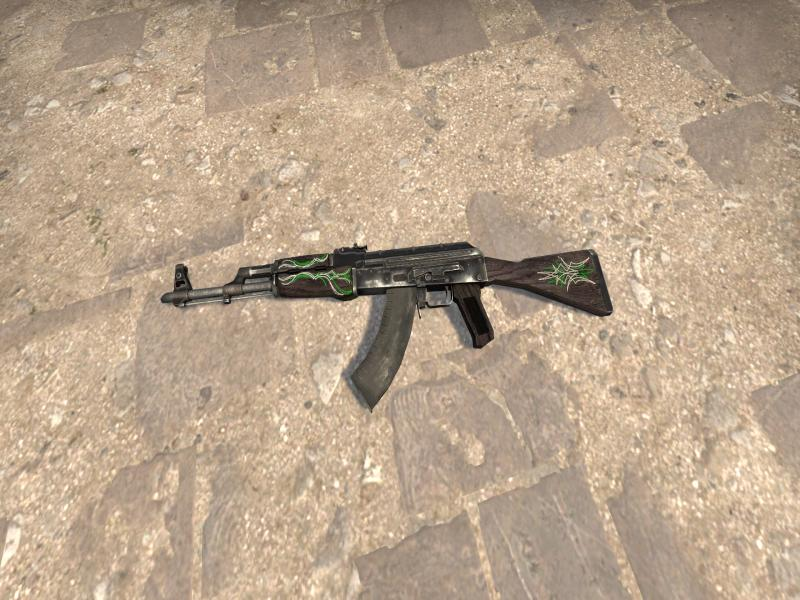AK47: (162, 242, 613, 407)
